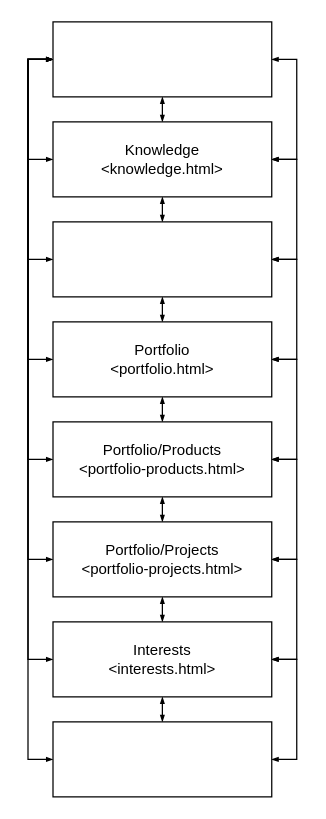
Some shapes in this 326 by 819 pixel diagram are drawn without their labels. Here are the shapes that lost their labels. From the top down, the centre of each, then its label:
At [162,59]: "Home <index.html>".
At [162,259]: "Skills <skills.html>".
At [162,759]: "Contact <contact.html>".
